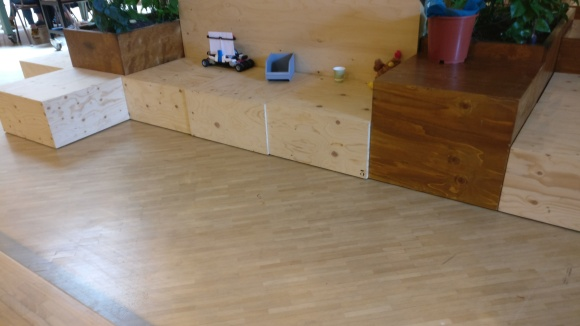car: (203, 30, 255, 74)
cup: (330, 64, 346, 84)
tray: (264, 50, 295, 83)
